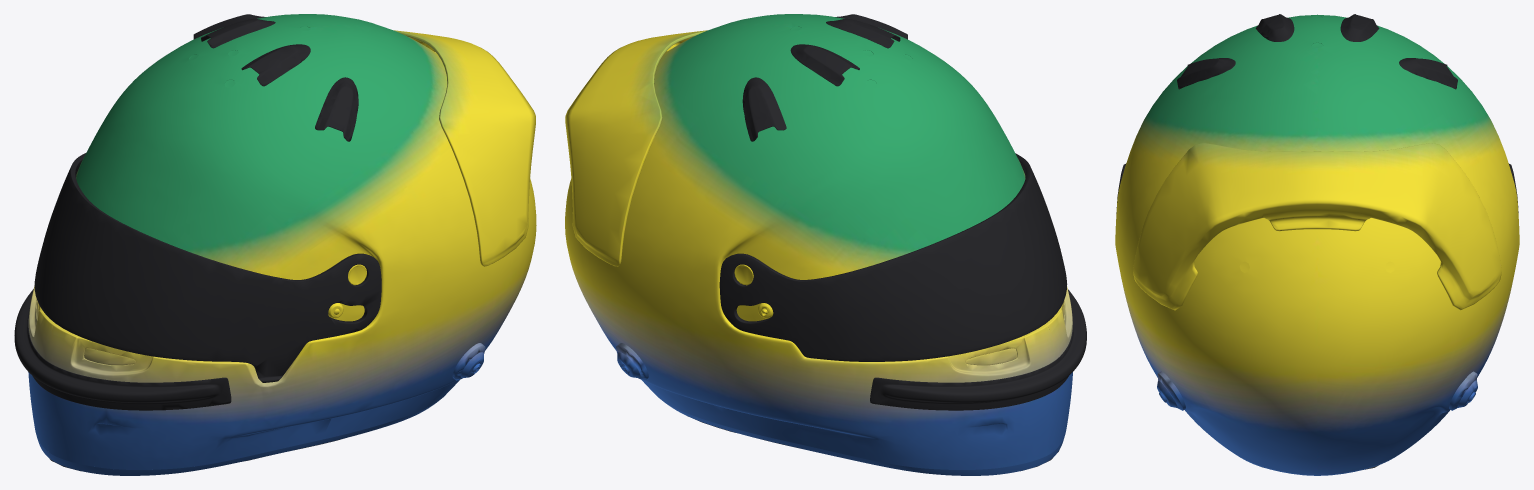
Rendered from cafe-helmet.glb.
The picture shows the model from 3 angles, left to right: view 1: azimuth 30°, elevation 25°; view 2: azimuth 150°, elevation 25°; view 3: azimuth 270°, elevation 25°; orthographic projection.
Parts seen in each view (by area): view 1: Cafe_Helmet; view 2: Cafe_Helmet; view 3: Cafe_Helmet.
Part boxes in pixels (bbox=[...]): Cafe_Helmet: bbox=[14, 14, 536, 475]; Cafe_Helmet: bbox=[565, 14, 1086, 475]; Cafe_Helmet: bbox=[1115, 14, 1519, 475].
Bounding box in the file's own units: 0.3 × 0.2253 × 0.2202.
Materials: 4 (2 with a texture image).
